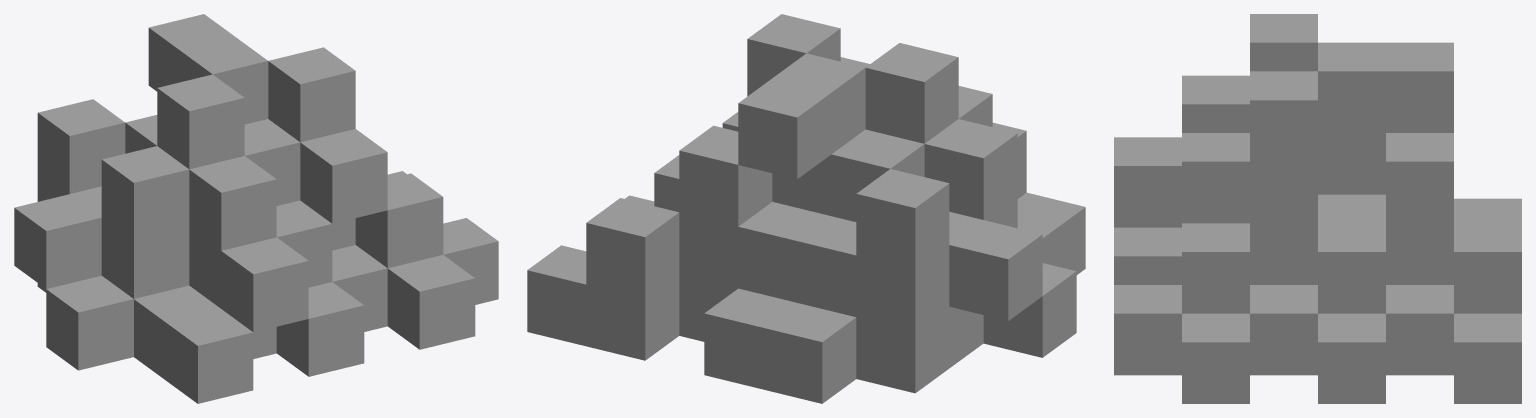
Rendered from tin_dust.dae.
The picture shows the model from 3 angles, left to right: view 1: azimuth 30°, elevation 25°; view 2: azimuth 150°, elevation 25°; view 3: azimuth 270°, elevation 25°; orthographic projection. The views are drawn at different scales.
Parts seen in each view (by area): view 1: tin_dust; view 2: tin_dust; view 3: tin_dust.
Part boxes in pixels (x1,y1,x2,y2): tin_dust: (14, 14, 498, 403); tin_dust: (527, 14, 1085, 403); tin_dust: (1114, 14, 1521, 403).
Size of the model in its own units: 0.7 by 0.4 by 0.6.
Materials: 1 (1 with a texture image).
